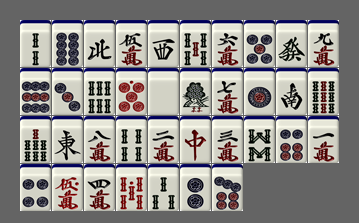0m: (52, 164, 83, 211)
0p: (116, 68, 147, 115)
0s: (116, 164, 147, 211)
1m: (308, 116, 339, 163)
1p: (244, 68, 275, 115)
1s: (180, 68, 211, 115)
1z: (52, 116, 83, 163)
2m: (148, 116, 179, 163)
2p: (180, 164, 211, 211)
2s: (20, 20, 51, 67)
2z: (276, 68, 307, 115)
3m: (212, 116, 243, 163)
3p: (52, 68, 83, 115)
3s: (148, 164, 179, 211)
3z: (148, 20, 179, 67)
4m: (84, 164, 115, 211)
4p: (20, 164, 51, 211)
4s: (116, 116, 147, 163)
4z: (84, 20, 115, 67)
5m: (116, 20, 147, 67)
5p: (244, 20, 275, 67)
5s: (180, 20, 211, 67)
5z: (148, 68, 179, 115)
6m: (212, 20, 243, 67)
6p: (276, 116, 307, 163)
6s: (84, 68, 115, 115)
6z: (276, 20, 307, 67)
7m: (212, 68, 243, 115)
7p: (212, 164, 243, 211)
7s: (20, 116, 51, 163)
7z: (180, 116, 211, 163)
8m: (84, 116, 115, 163)
8p: (52, 20, 83, 67)
8s: (244, 116, 275, 163)
9m: (308, 20, 339, 67)
9p: (20, 68, 51, 115)
9s: (308, 68, 339, 115)
